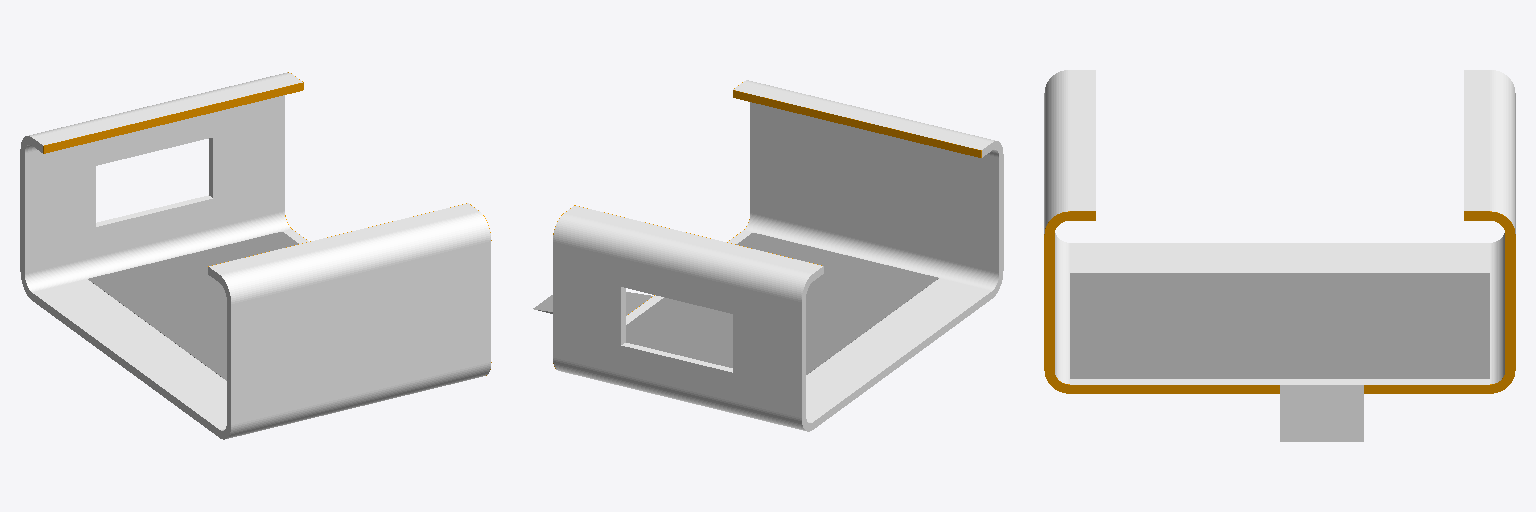
The robot description file, URDF, robot "coe-demospace":
<?xml version="1.0"?>
<robot name="coe-demospace"
       xmlns:xi="http://www.w3.org/2001/XInclude"
       xmlns:gazebo="http://playerstage.sourceforge.net/gazebo/xmlschema/#gz"
       xmlns:model="http://playerstage.sourceforge.net/gazebo/xmlschema/#model"
       xmlns:sensor="http://playerstage.sourceforge.net/gazebo/xmlschema/#sensor"
       xmlns:body="http://playerstage.sourceforge.net/gazebo/xmlschema/#body"
       xmlns:geom="http://playerstage.sourceforge.net/gazebo/xmlschema/#geom"
       xmlns:joint="http://playerstage.sourceforge.net/gazebo/xmlschema/#joint"
       xmlns:interface="http://playerstage.sourceforge.net/gazebo/xmlschema/#interface"
       xmlns:rendering="http://playerstage.sourceforge.net/gazebo/xmlschema/#rendering"
       xmlns:renderable="http://playerstage.sourceforge.net/gazebo/xmlschema/#renderable"
       xmlns:controller="http://playerstage.sourceforge.net/gazebo/xmlschema/#controller"
       xmlns:physics="http://playerstage.sourceforge.net/gazebo/xmlschema/#physics">
  <gazebo>
    <static>false</static>
  </gazebo>
  <link name="nil_link">
    <visual>
      <origin xyz="0 0 0" rpy="0 -0 0"/>
      <geometry>
        <mesh filename="model://coe-demospace/meshes/nil_link_mesh.dae" scale="1 1 1" />
      </geometry>
    </visual>
    <collision>
      <origin xyz="0 0 0" rpy="0 -0 0"/>
      <geometry>
        <mesh filename="model://coe-demospace/meshes/nil_link_mesh.dae" scale="1 1 1" />
      </geometry>
    </collision>
    <inertial>
      <mass value="0.001" />
      <origin xyz="0 0 0" rpy="0 -0 0"/>
      <inertia ixx="1e-09" ixy="0" ixz="0" iyy="1e-09" iyz="0" izz="1e-09"/>
    </inertial>
  </link>
  <gazebo reference="nil_link">
    <mu1>0.9</mu1>
    <mu2>0.9</mu2>
  </gazebo>
</robot>

--- Facts derived from the render (not from the file) ---
The picture shows the robot from 3 angles, left to right: view 1: azimuth 30°, elevation 25°; view 2: azimuth 150°, elevation 25°; view 3: azimuth 270°, elevation 25°; orthographic projection.
Model coe-demospace with 1 links and 0 joints (none), rooted at nil_link, posed all joints at 0.
Visible links, largest first — view 1: nil_link; view 2: nil_link; view 3: nil_link.
Link boxes in pixels (bbox=[...]): nil_link: bbox=[20, 72, 491, 439]; nil_link: bbox=[533, 80, 1003, 431]; nil_link: bbox=[1044, 70, 1515, 441].
Size in the robot's own frame: 5.38 by 5.62 by 2.4 metres.
Meshes: 1 distinct files referenced, 1 mesh visuals loaded (1 Collada DAE).
